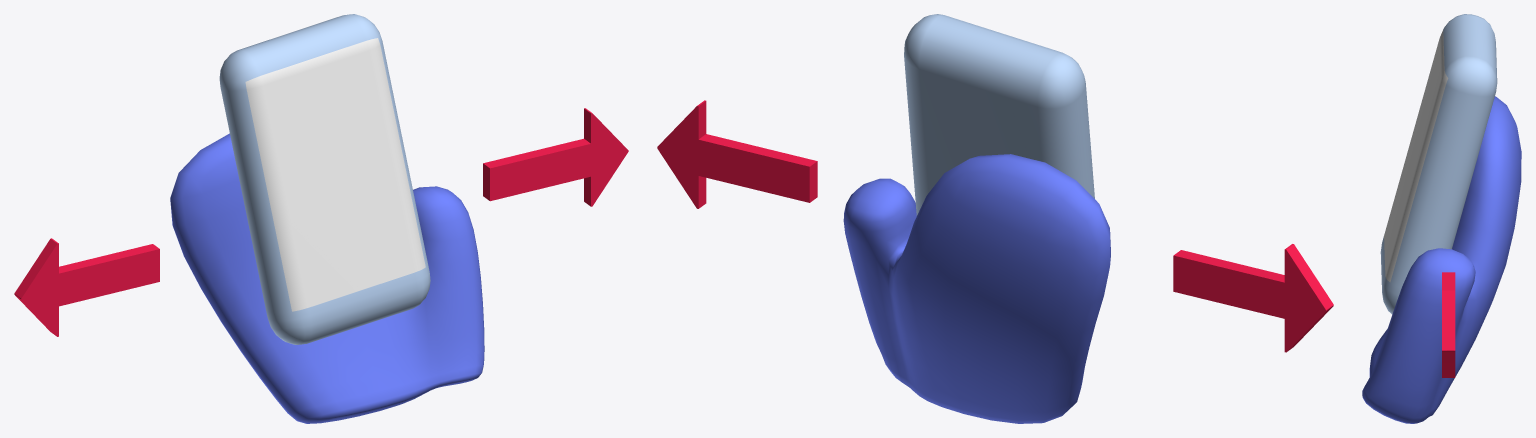
The model's file is scanGesture.dae.
The picture shows the model from 3 angles, left to right: view 1: azimuth 30°, elevation 25°; view 2: azimuth 150°, elevation 25°; view 3: azimuth 270°, elevation 25°; orthographic projection. The views are drawn at different scales.
Visible parts, largest first — view 1: phone1_scanGesture, scanGesture_pCube8, scanGesture_pCube10, scanGesture_pCube9; view 2: scanGesture_pCube8, phone1_scanGesture, scanGesture_pCube9, scanGesture_pCube10; view 3: scanGesture_pCube8, phone1_scanGesture, scanGesture_pCube10.
Boxes of the visible parts, left/top/right/bottom form: phone1_scanGesture: left=219, top=14, right=430, bottom=344; scanGesture_pCube8: left=170, top=133, right=484, bottom=423; scanGesture_pCube10: left=483, top=108, right=628, bottom=206; scanGesture_pCube9: left=14, top=238, right=159, bottom=336; scanGesture_pCube8: left=843, top=154, right=1110, bottom=423; phone1_scanGesture: left=904, top=14, right=1094, bottom=215; scanGesture_pCube9: left=1173, top=244, right=1333, bottom=352; scanGesture_pCube10: left=657, top=100, right=817, bottom=208; scanGesture_pCube8: left=1362, top=96, right=1521, bottom=423; phone1_scanGesture: left=1380, top=14, right=1497, bottom=314; scanGesture_pCube10: left=1442, top=272, right=1455, bottom=377.
Bounding box in the file's own units: 0.3233 × 0.1906 × 0.0786.
